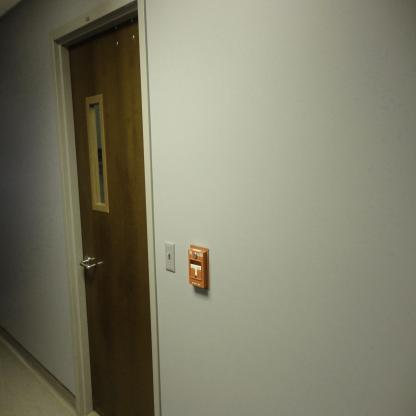door: (68, 15, 149, 415)
lever: (79, 256, 98, 274)
